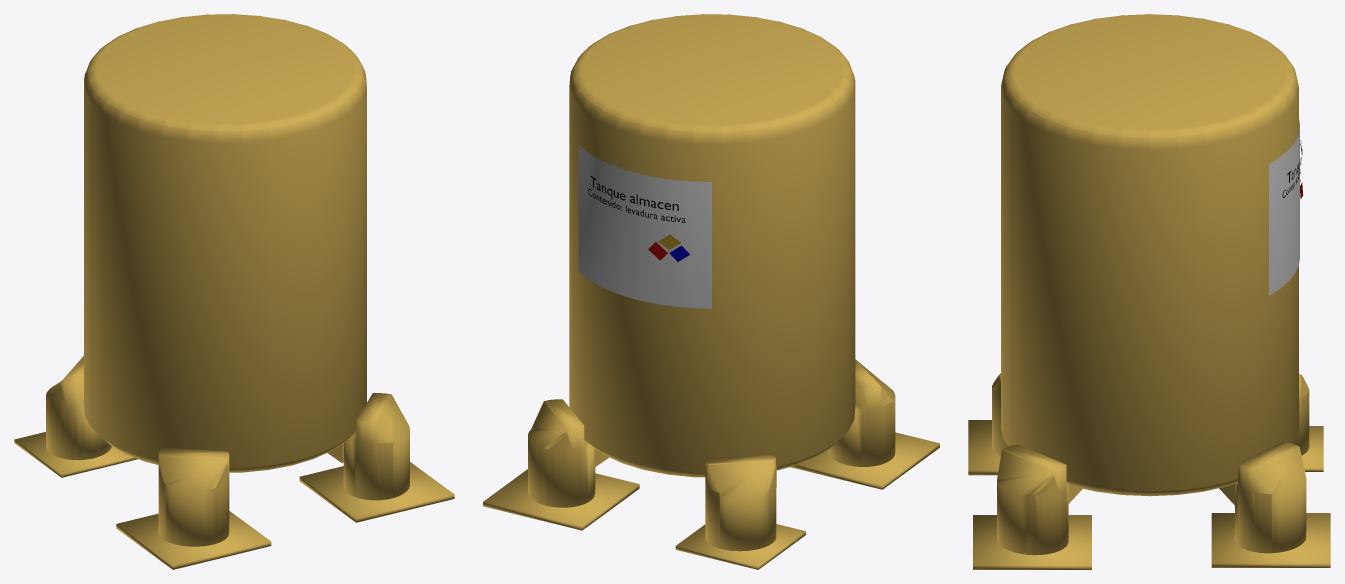
File: tank3.mtl.obj
3 views of the same model, side by side, from view 1: azimuth 30°, elevation 25°; view 2: azimuth 150°, elevation 25°; view 3: azimuth 270°, elevation 25° (orthographic). The views are drawn at different scales.
Visible parts, largest first — view 1: Cylinder, Cylinder.003_Cylinder.004, Cylinder.001_Cylinder.006, Cylinder.004_Cylinder.008; view 2: Cylinder, BezierCircle_Mesh, Cylinder.002_Cylinder.007, Cylinder.004_Cylinder.008, Cylinder.003_Cylinder.004; view 3: Cylinder, Cylinder.002_Cylinder.007, Cylinder.001_Cylinder.006, BezierCircle_Mesh, Cylinder.003_Cylinder.004, Cylinder.004_Cylinder.008.
Boxes of the visible parts, left/top/right/bottom form: Cylinder: left=84, top=14, right=366, bottom=472; Cylinder.003_Cylinder.004: left=116, top=447, right=271, bottom=569; Cylinder.001_Cylinder.006: left=299, top=393, right=454, bottom=522; Cylinder.004_Cylinder.008: left=14, top=356, right=137, bottom=477; Cylinder: left=569, top=14, right=855, bottom=477; BezierCircle_Mesh: left=578, top=145, right=711, bottom=308; Cylinder.002_Cylinder.007: left=483, top=399, right=639, bottom=530; Cylinder.004_Cylinder.008: left=675, top=454, right=805, bottom=569; Cylinder.003_Cylinder.004: left=790, top=359, right=939, bottom=489; Cylinder: left=1001, top=14, right=1298, bottom=496; Cylinder.002_Cylinder.007: left=1211, top=442, right=1330, bottom=567; Cylinder.001_Cylinder.006: left=973, top=444, right=1091, bottom=569; BezierCircle_Mesh: left=1269, top=120, right=1299, bottom=295; Cylinder.003_Cylinder.004: left=968, top=373, right=1007, bottom=475; Cylinder.004_Cylinder.008: left=1293, top=374, right=1323, bottom=471.
Size of the model in its own units: 2.31 by 3.14 by 2.43.
